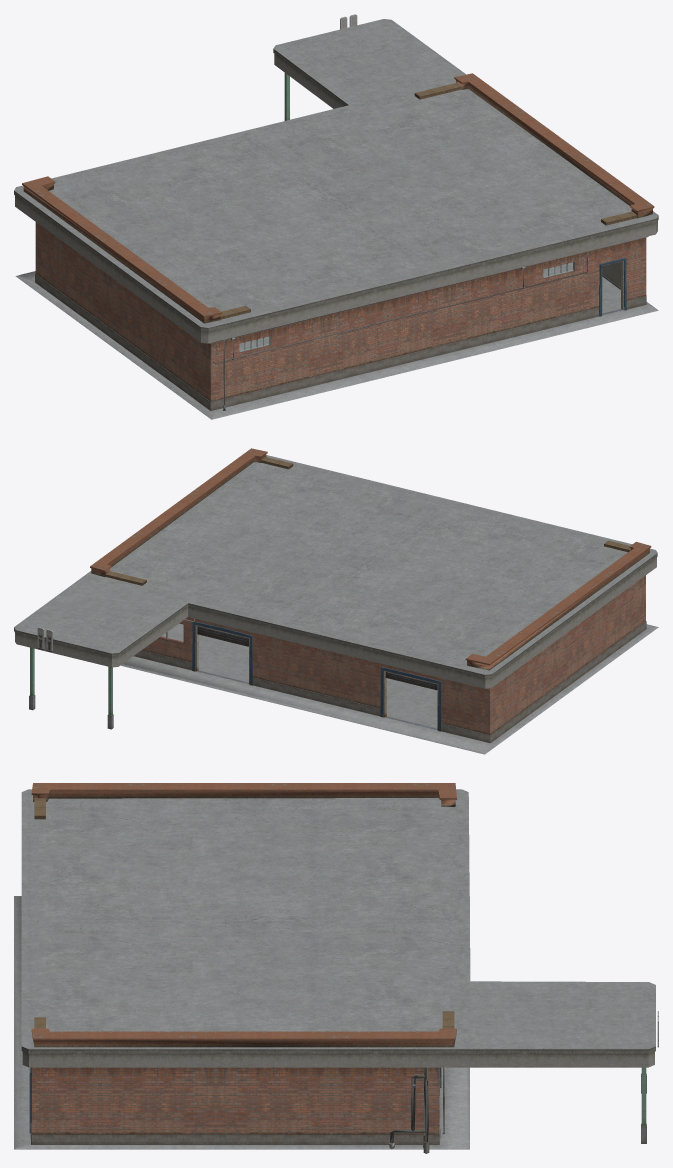
The model's file is Building_WestGasStation001_lod1.glb.
3 views of the same model, one above another, from view 1: azimuth 30°, elevation 25°; view 2: azimuth 150°, elevation 25°; view 3: azimuth 270°, elevation 25° (orthographic). The views are drawn at different scales.
Parts seen in each view (by area): view 1: West_gas_station_001_lod1_0; view 2: West_gas_station_001_lod1_0; view 3: West_gas_station_001_lod1_0.
Boxes of the visible parts, x1,y1,x2,y2 form: West_gas_station_001_lod1_0: (14, 14, 658, 419); West_gas_station_001_lod1_0: (14, 448, 658, 754); West_gas_station_001_lod1_0: (14, 783, 658, 1153).
Size of the model in its own units: 31.3 by 6.46 by 32.59.
Materials: 2 (2 with a texture image).
